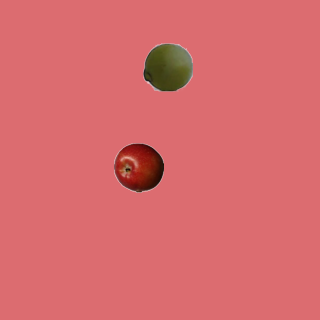Apple Braeburn: (113, 142, 163, 192)
Grape White 4: (142, 41, 192, 91)
